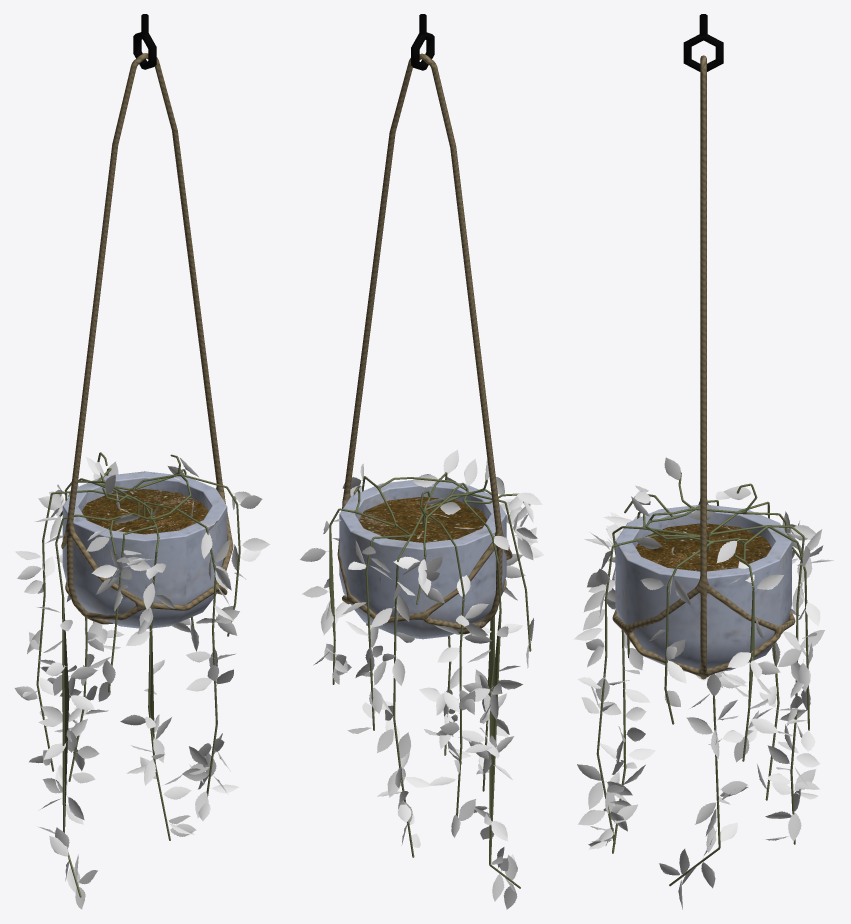
File: Plants_Pots_7.fbx
3 renders of one model, left to right at view 1: azimuth 30°, elevation 25°; view 2: azimuth 150°, elevation 25°; view 3: azimuth 270°, elevation 25°, orthographic. The views are drawn at different scales.
Visible parts, largest first — view 1: Cylinder.011; view 2: Cylinder.011; view 3: Cylinder.011.
Part boxes in pixels (x1=…): Cylinder.011: x1=14, y1=14, x2=270, y2=909; Cylinder.011: x1=300, y1=14, x2=544, y2=909; Cylinder.011: x1=573, y1=14, x2=833, y2=909.
Bounding box in the file's own units: 43.55 × 178 × 45.54.
